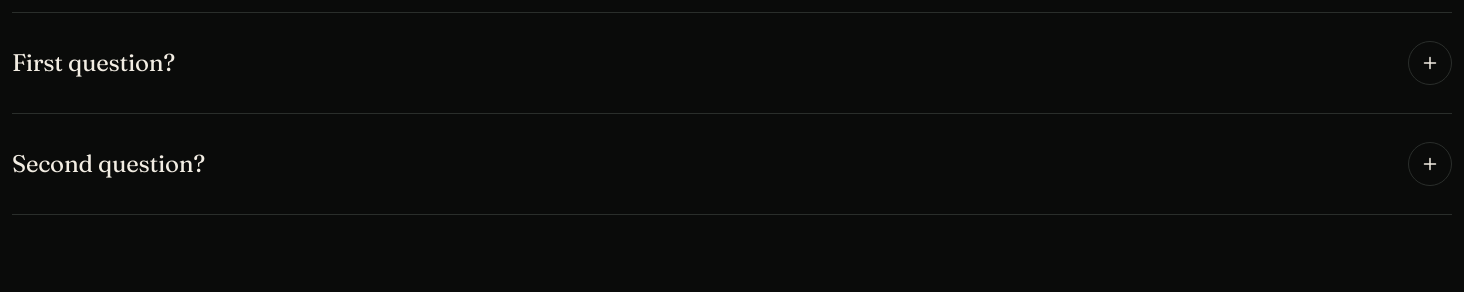
Test: FaqAccordion › expands one item at a time (single mode)
What coordinates should you click on to do the following:
click the button "First question?"
I would click on:
 (93, 62)
Its box is [12,13,1452,113].
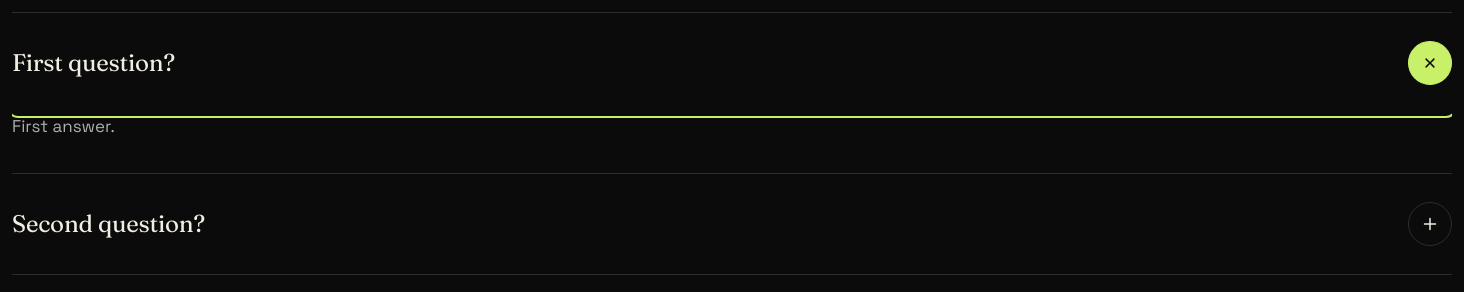
Now the button "First question?" is expanded, box [12,13,1452,113]
Now the text "First answer." is shown, box [12,115,115,137]
What coordinates should you click on to do the following:
click the button "Second question?"
I would click on:
 (108, 223)
Its box is [12,174,1452,274].
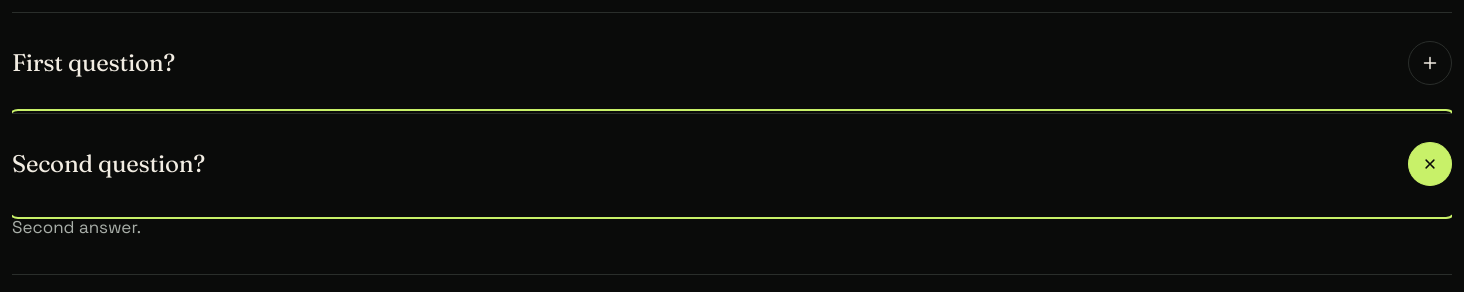
Now the button "Second question?" is expanded, box [12,114,1452,214]
Now the button "First question?" is collapsed, box [12,13,1452,113]
